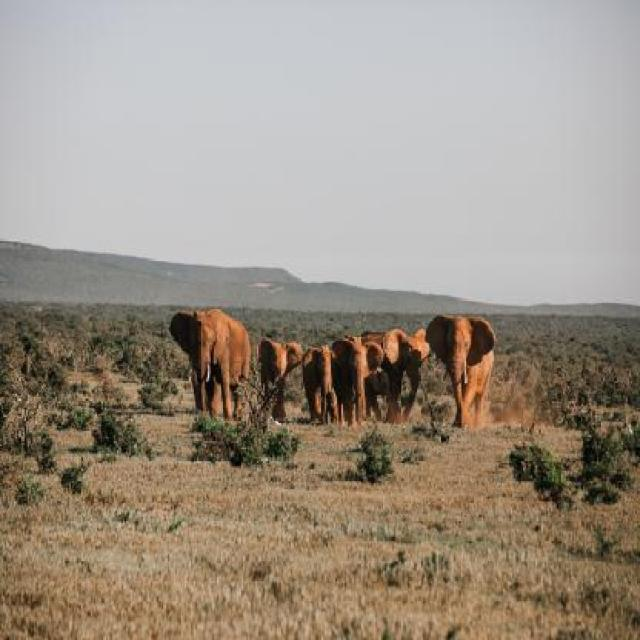Elephant: (169, 296, 254, 424), (426, 304, 508, 436), (379, 313, 438, 430), (330, 319, 385, 427), (253, 326, 304, 423), (304, 326, 341, 423)
